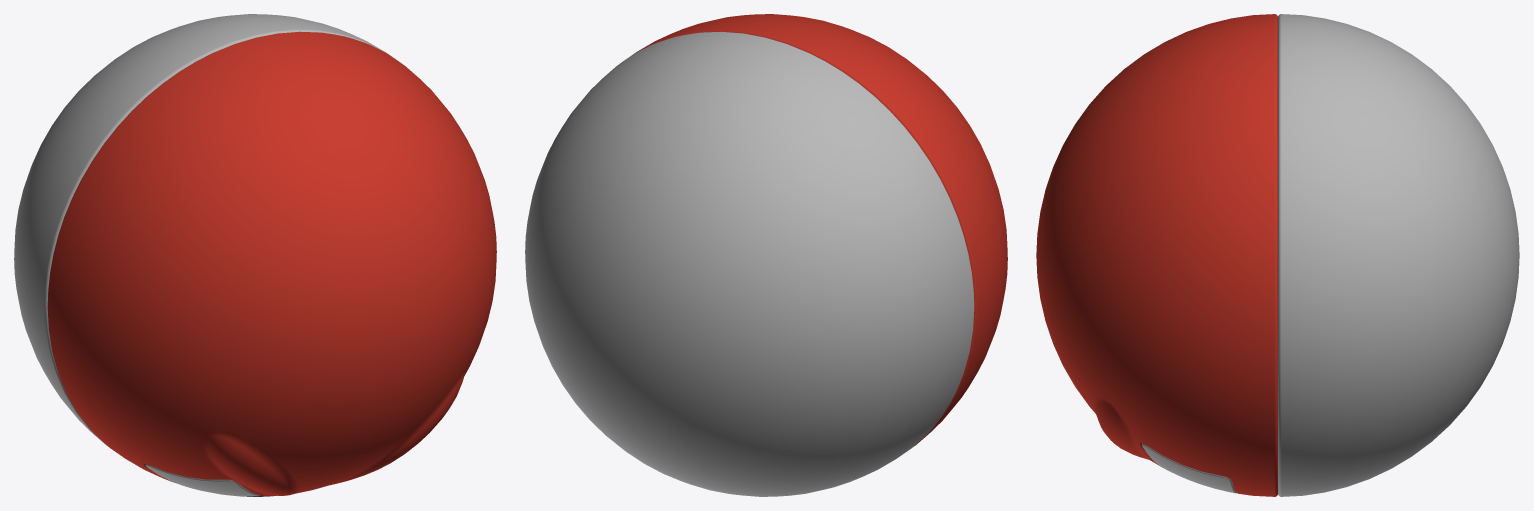
The model's file is Voltorb.fbx.
3 renders of one model, left to right at view 1: azimuth 30°, elevation 25°; view 2: azimuth 150°, elevation 25°; view 3: azimuth 270°, elevation 25°, orthographic.
Parts seen in each view (by area): view 1: Body3, Body4, Body11; view 2: Body4, Body3; view 3: Body4, Body3, Body6.
Boxes of the visible parts, box(x1,y1,x2,y2) form: Body3: box(47, 31, 496, 496); Body4: box(14, 14, 388, 445); Body11: box(145, 464, 268, 496); Body4: box(525, 31, 974, 496); Body3: box(625, 14, 1007, 445); Body4: box(1278, 14, 1519, 496); Body3: box(1036, 14, 1277, 496); Body6: box(1142, 443, 1236, 493).
Bounding box in the file's own units: 1.39 × 1.39 × 1.39.
